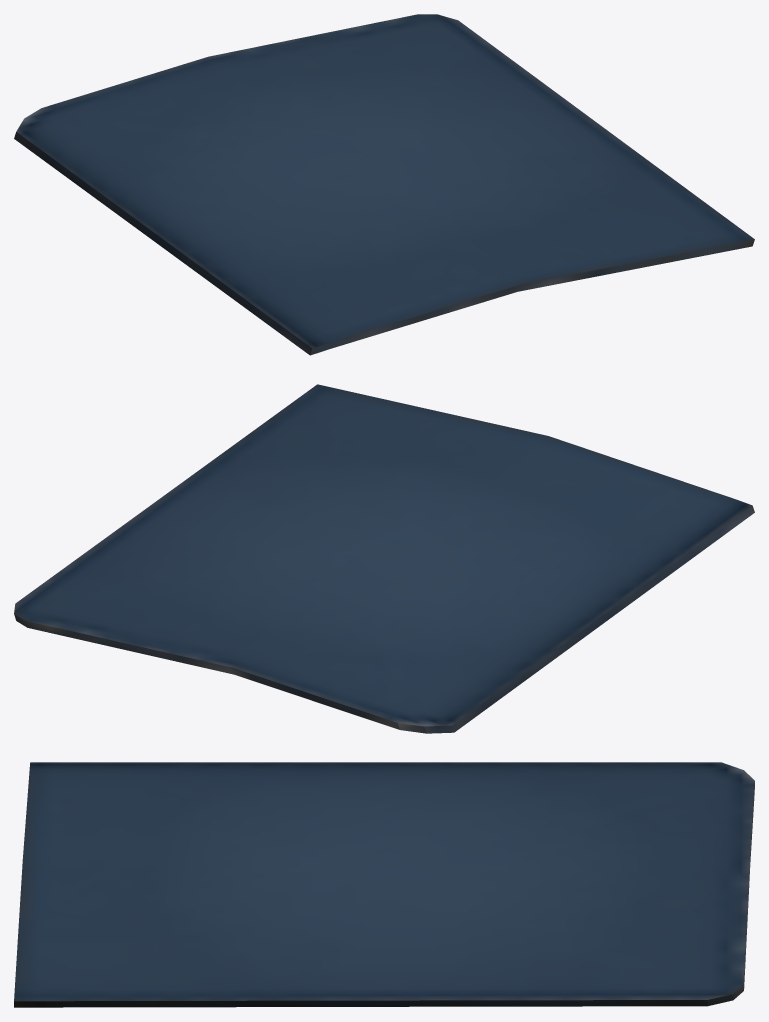
Rendered from SuburbanRearWindow_WorldItem.fbx.
3 views of the same model, one above another, from view 1: azimuth 30°, elevation 25°; view 2: azimuth 150°, elevation 25°; view 3: azimuth 270°, elevation 25° (orthographic). The views are drawn at different scales.
Parts seen in each view (by area): view 1: RearRightWindow_obj; view 2: RearRightWindow_obj; view 3: RearRightWindow_obj.
Boxes of the visible parts, left/top/right/bottom form: RearRightWindow_obj: left=14, top=14, right=754, bottom=355; RearRightWindow_obj: left=14, top=384, right=754, bottom=733; RearRightWindow_obj: left=14, top=762, right=754, bottom=1007.
Size of the model in its own units: 0.5952 by 0.0295 by 0.7464.
